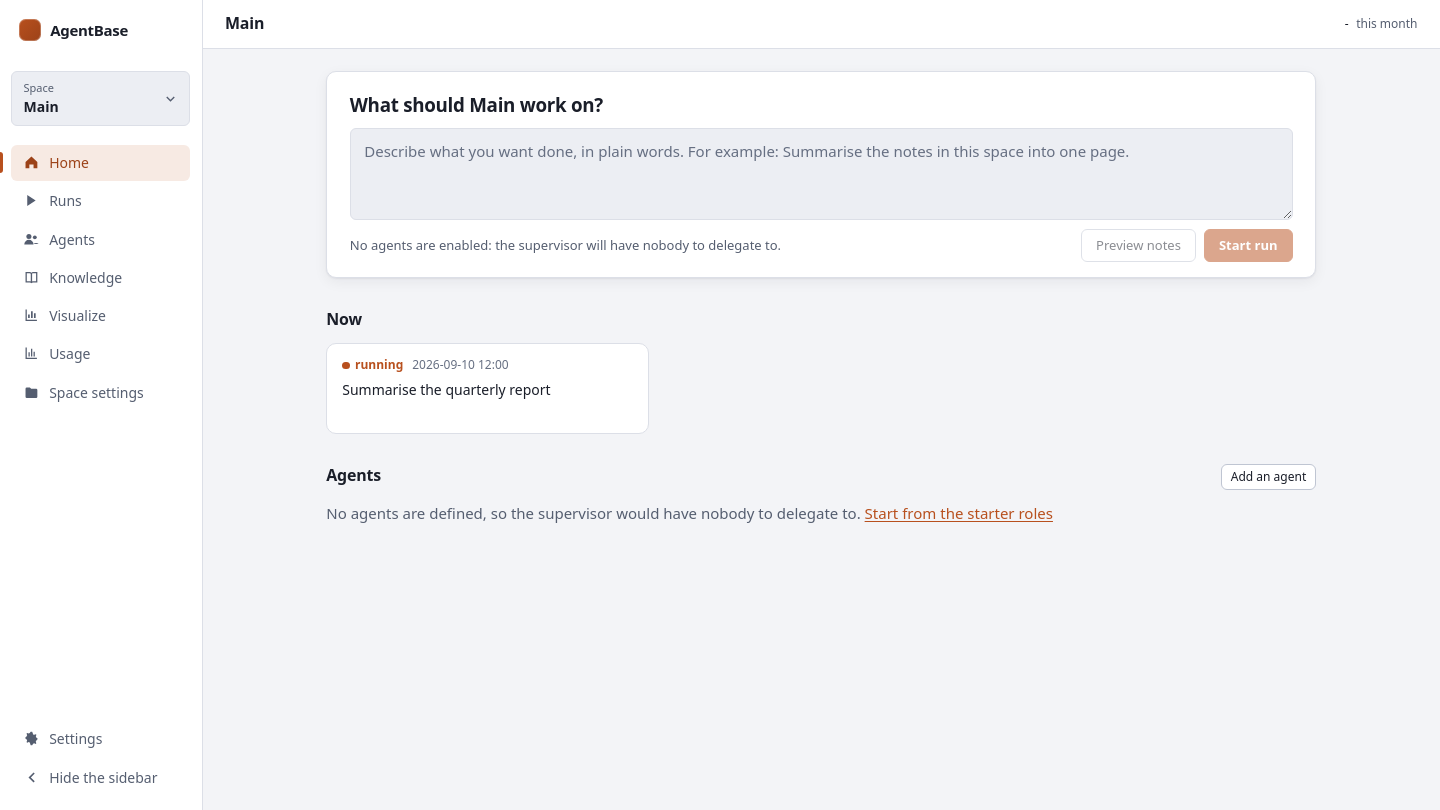
Scenario: switching sections › opens on Home, and a card there opens its run in the Runs section
This screenshot has width=1440, height=810.
Click the button with test id "run-card-run-1".
click(488, 388)  # box left=326, top=343, right=649, bottom=434
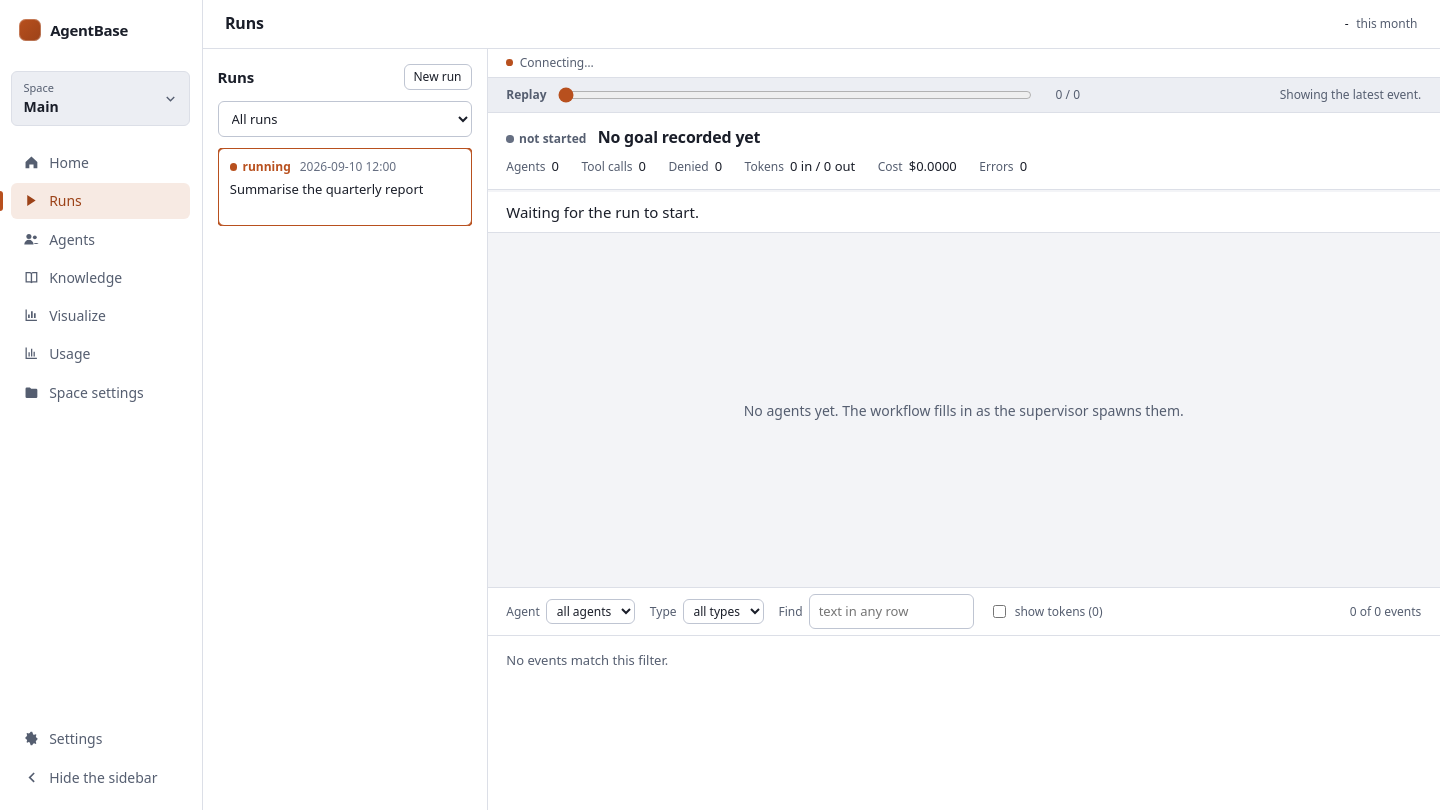
Now the element with test id "run-panel" is shown, box left=488, top=78, right=1439, bottom=809
